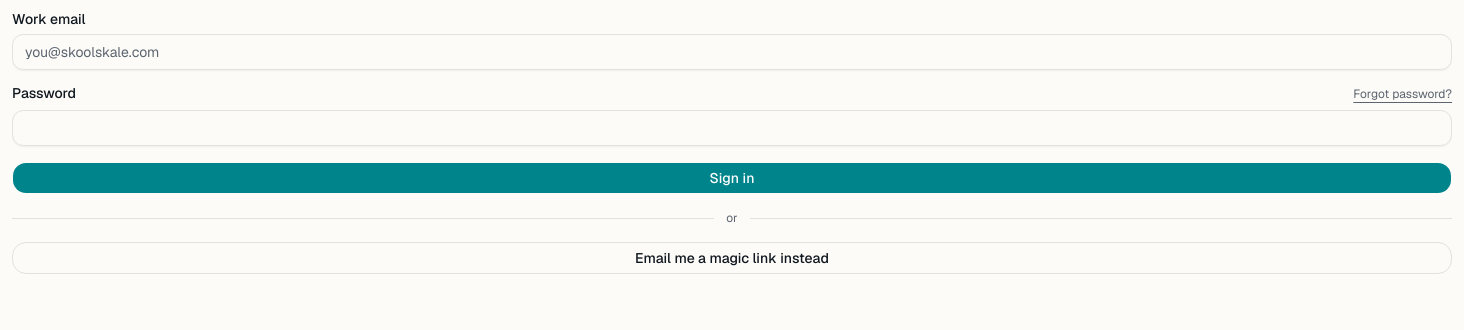
LoginForm — magic link fallback › asks for an address instead of sending a link to nobody
Click the button "Email me a magic link instead".
click(732, 258)  # box 12,242 -> 1452,274
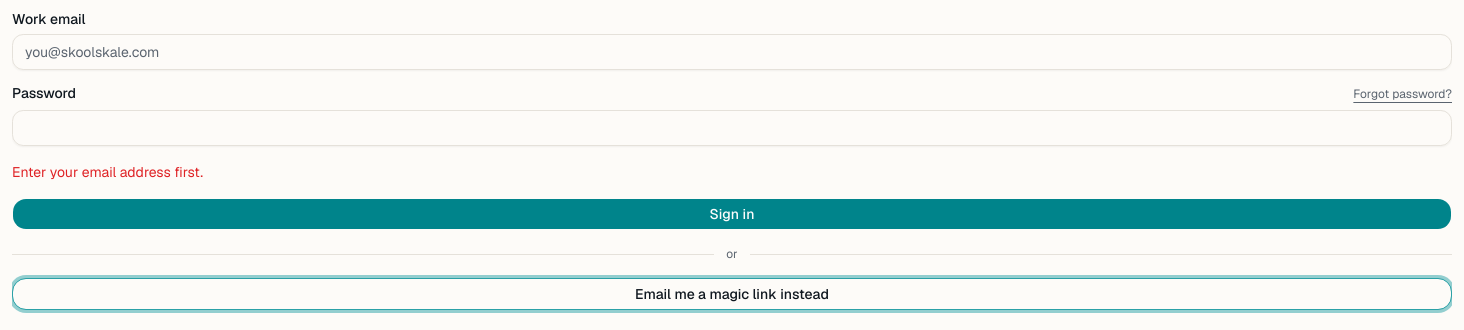
Expected: the message reads "Enter your email address first.", 12,163 -> 203,181
